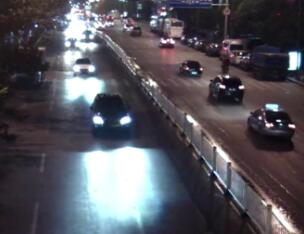bus: (160, 14, 185, 40)
car: (84, 90, 134, 139), (248, 101, 298, 145), (206, 72, 246, 102), (69, 55, 97, 79), (177, 55, 204, 78), (221, 37, 241, 62), (231, 49, 251, 67), (63, 36, 84, 52), (77, 28, 97, 43), (156, 35, 175, 48)
